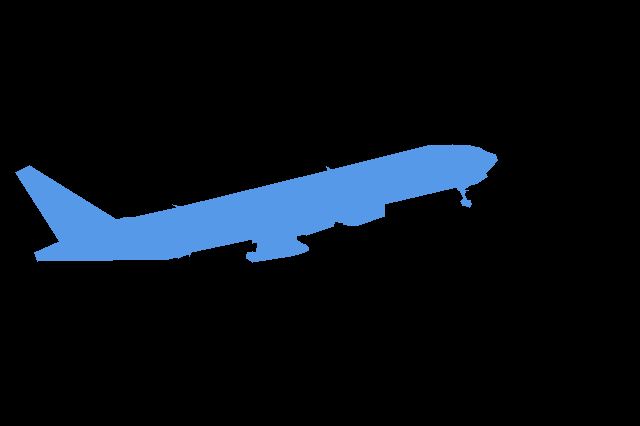Airplane: (15, 144, 498, 263)
